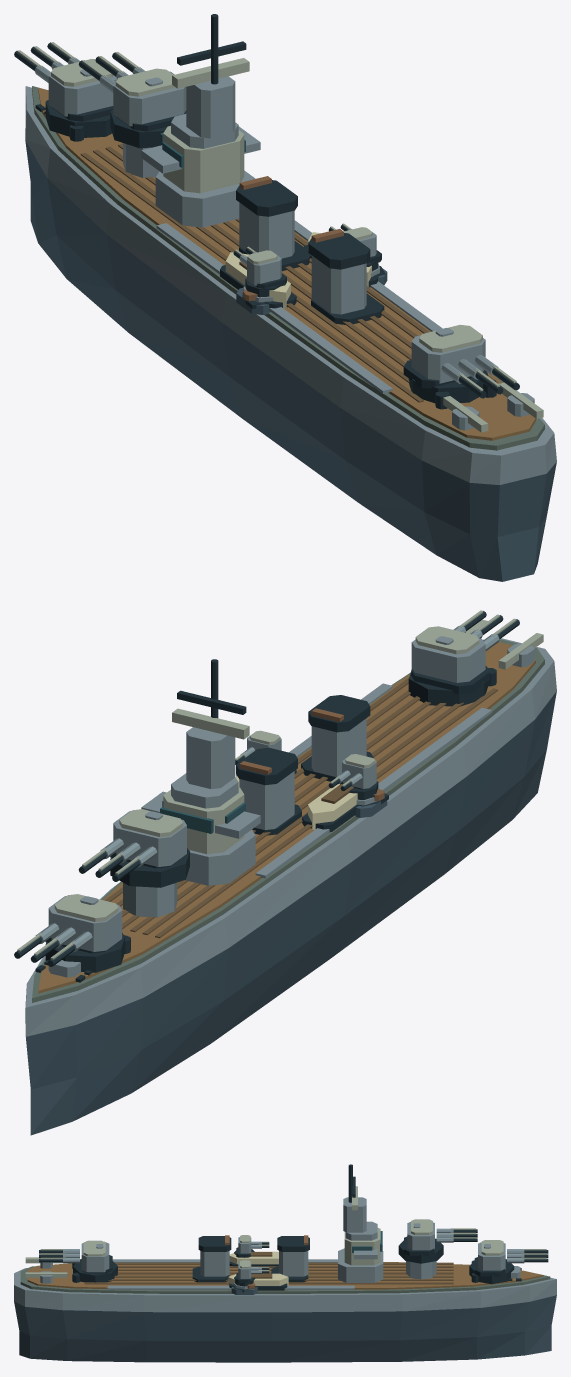
File: historic-portland.glb
3 renders of one model, top to bottom at view 1: azimuth 30°, elevation 25°; view 2: azimuth 150°, elevation 25°; view 3: azimuth 270°, elevation 25°, orthographic. The views are drawn at different scales.
Visible parts, largest first — view 1: historic-portland-historic-portland-geometry, historic-portland-part_bridge.093-geometry, historic-portland-turret_main_2.053-geometry, historic-portland-turret_main_1.060-geometry, historic-portland-historic_funnel_1.045-geometry, historic-portland-turret_main_0.064-geometry, historic-portland-historic_funnel_0.091-geometry, historic-portland-turret_aa_aa-port.095-geometry, historic-portland-turret_aa_aa-starboard.091-geometry; view 2: historic-portland-historic-portland-geometry, historic-portland-part_bridge.093-geometry, historic-portland-turret_main_2.053-geometry, historic-portland-turret_main_1.060-geometry, historic-portland-turret_main_0.064-geometry, historic-portland-historic_funnel_0.091-geometry, historic-portland-historic_funnel_1.045-geometry, historic-portland-turret_aa_aa-port.095-geometry, historic-portland-turret_aa_aa-starboard.091-geometry; view 3: historic-portland-historic-portland-geometry, historic-portland-part_bridge.093-geometry, historic-portland-turret_main_1.060-geometry, historic-portland-turret_main_0.064-geometry, historic-portland-turret_main_2.053-geometry, historic-portland-historic_funnel_1.045-geometry, historic-portland-historic_funnel_0.091-geometry, historic-portland-turret_aa_aa-starboard.091-geometry, historic-portland-turret_aa_aa-port.095-geometry.
Boxes of the visible parts, left/top/right/bottom form: historic-portland-historic-portland-geometry: left=25, top=86, right=556, bottom=581; historic-portland-part_bridge.093-geometry: left=141, top=14, right=260, bottom=227; historic-portland-turret_main_2.053-geometry: left=403, top=324, right=519, bottom=403; historic-portland-turret_main_1.060-geometry: left=78, top=52, right=186, bottom=148; historic-portland-historic_funnel_1.045-geometry: left=308, top=229, right=384, bottom=324; historic-portland-turret_main_0.064-geometry: left=14, top=42, right=116, bottom=137; historic-portland-historic_funnel_0.091-geometry: left=236, top=176, right=310, bottom=271; historic-portland-turret_aa_aa-port.095-geometry: left=233, top=246, right=286, bottom=297; historic-portland-turret_aa_aa-starboard.091-geometry: left=328, top=223, right=381, bottom=271; historic-portland-historic-portland-geometry: left=25, top=619, right=556, bottom=1135; historic-portland-part_bridge.093-geometry: left=141, top=659, right=260, bottom=885; historic-portland-turret_main_2.053-geometry: left=408, top=610, right=519, bottom=706; historic-portland-turret_main_1.060-geometry: left=78, top=809, right=189, bottom=887; historic-portland-turret_main_0.064-geometry: left=14, top=894, right=125, bottom=972; historic-portland-historic_funnel_0.091-geometry: left=236, top=747, right=301, bottom=835; historic-portland-historic_funnel_1.045-geometry: left=301, top=695, right=373, bottom=781; historic-portland-turret_aa_aa-port.095-geometry: left=328, top=754, right=378, bottom=799; historic-portland-turret_aa_aa-starboard.091-geometry: left=235, top=730, right=281, bottom=764; historic-portland-historic-portland-geometry: left=14, top=1251, right=556, bottom=1362; historic-portland-part_bridge.093-geometry: left=338, top=1164, right=383, bottom=1282; historic-portland-turret_main_1.060-geometry: left=398, top=1219, right=477, bottom=1263; historic-portland-turret_main_0.064-geometry: left=469, top=1240, right=548, bottom=1284; historic-portland-turret_main_2.053-geometry: left=39, top=1240, right=117, bottom=1282; historic-portland-historic_funnel_1.045-geometry: left=192, top=1235, right=231, bottom=1282; historic-portland-historic_funnel_0.091-geometry: left=271, top=1235, right=309, bottom=1282; historic-portland-turret_aa_aa-starboard.091-geometry: left=234, top=1260, right=269, bottom=1286; historic-portland-turret_aa_aa-port.095-geometry: left=234, top=1235, right=269, bottom=1257.
Bounding box in the file's own units: 0.6903 × 1.63 × 4.32.
